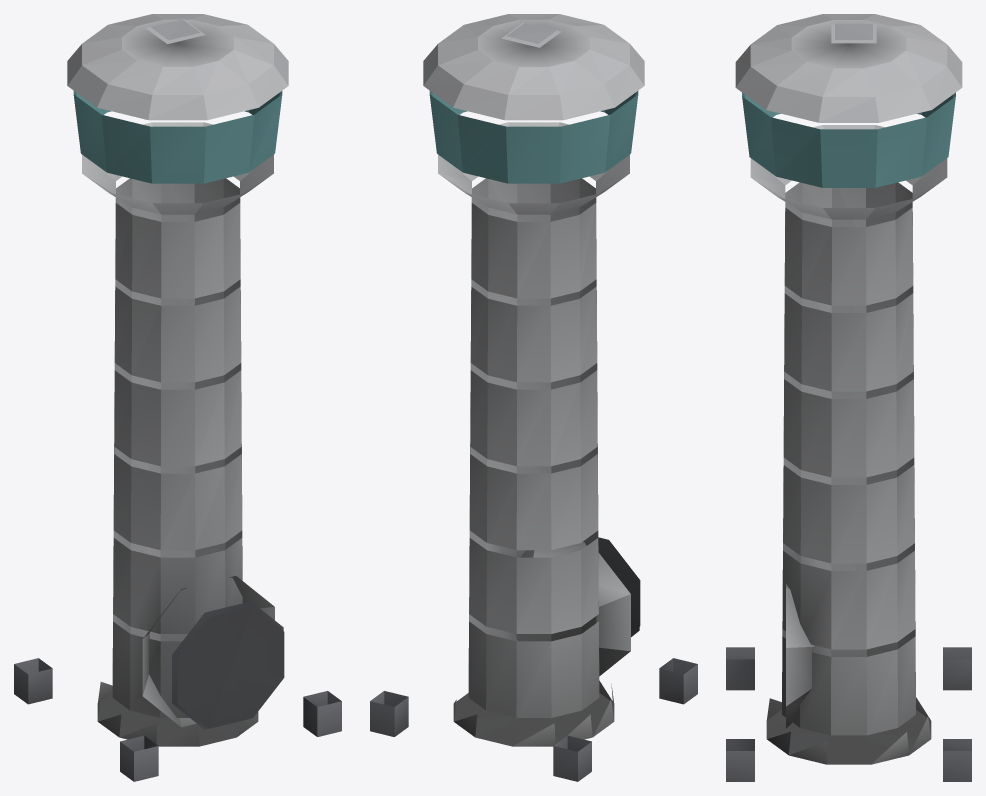
Rendered from otower.lod.glb.
The picture shows the model from 3 angles, left to right: view 1: azimuth 30°, elevation 25°; view 2: azimuth 150°, elevation 25°; view 3: azimuth 270°, elevation 25°; orthographic projection. The views are drawn at different scales.
Parts seen in each view (by area): view 1: otower; view 2: otower; view 3: otower.
Boxes of the visible parts, x1,y1,x2,y2 form: otower: [14, 14, 341, 781]; otower: [370, 14, 697, 781]; otower: [726, 14, 971, 781].
Size of the model in its own units: 4.88 by 15.26 by 4.88.
